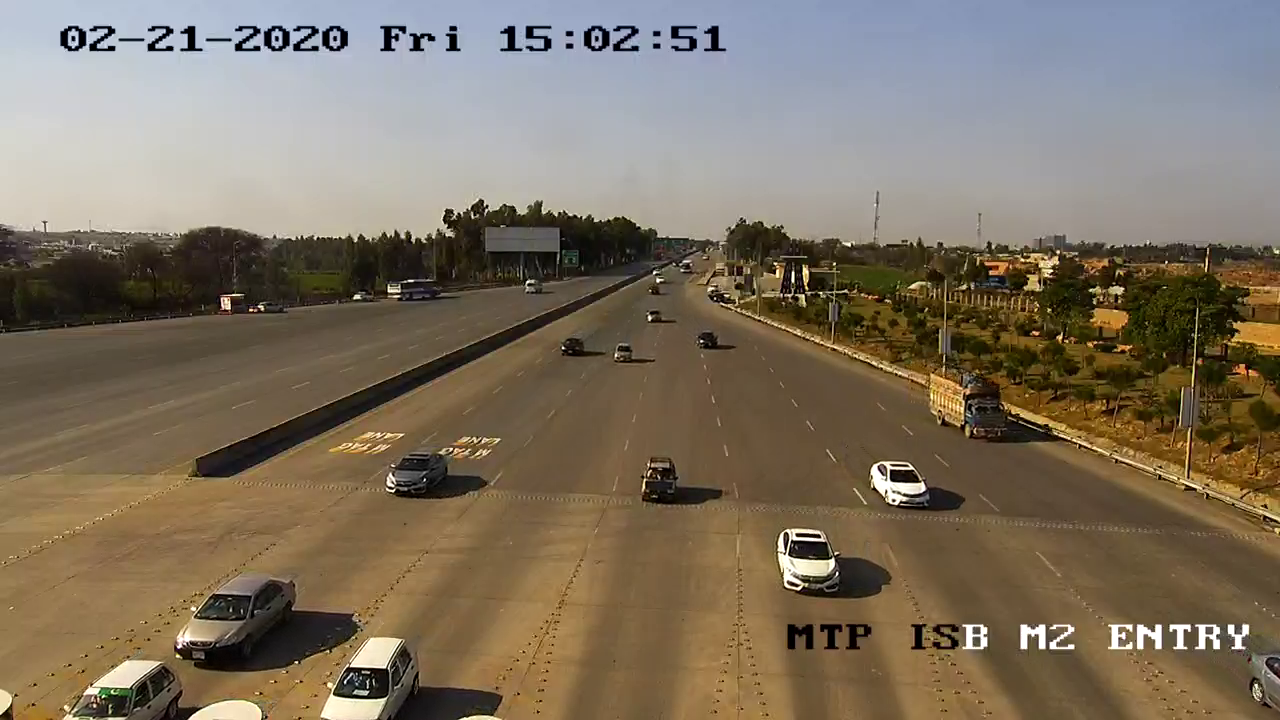f1: (159, 554, 305, 677), (309, 623, 423, 720), (771, 521, 848, 600), (378, 435, 455, 501), (862, 452, 934, 510), (632, 451, 689, 508)
f5: (923, 360, 1017, 448)
